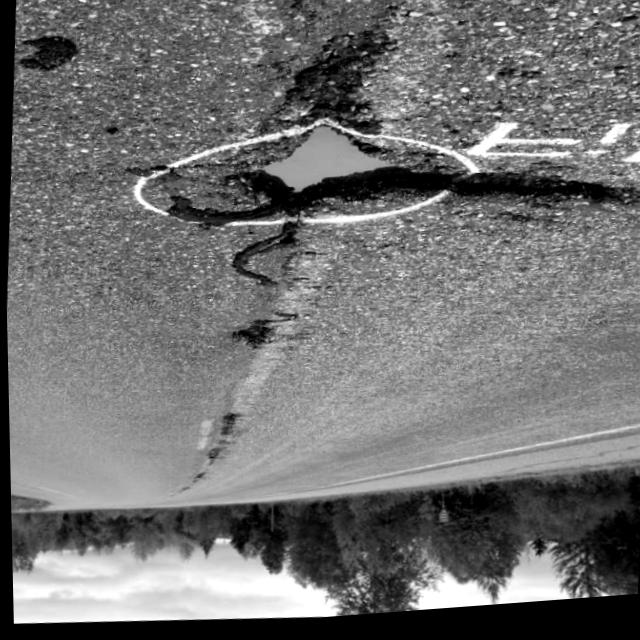pathole: (139, 27, 640, 280)
